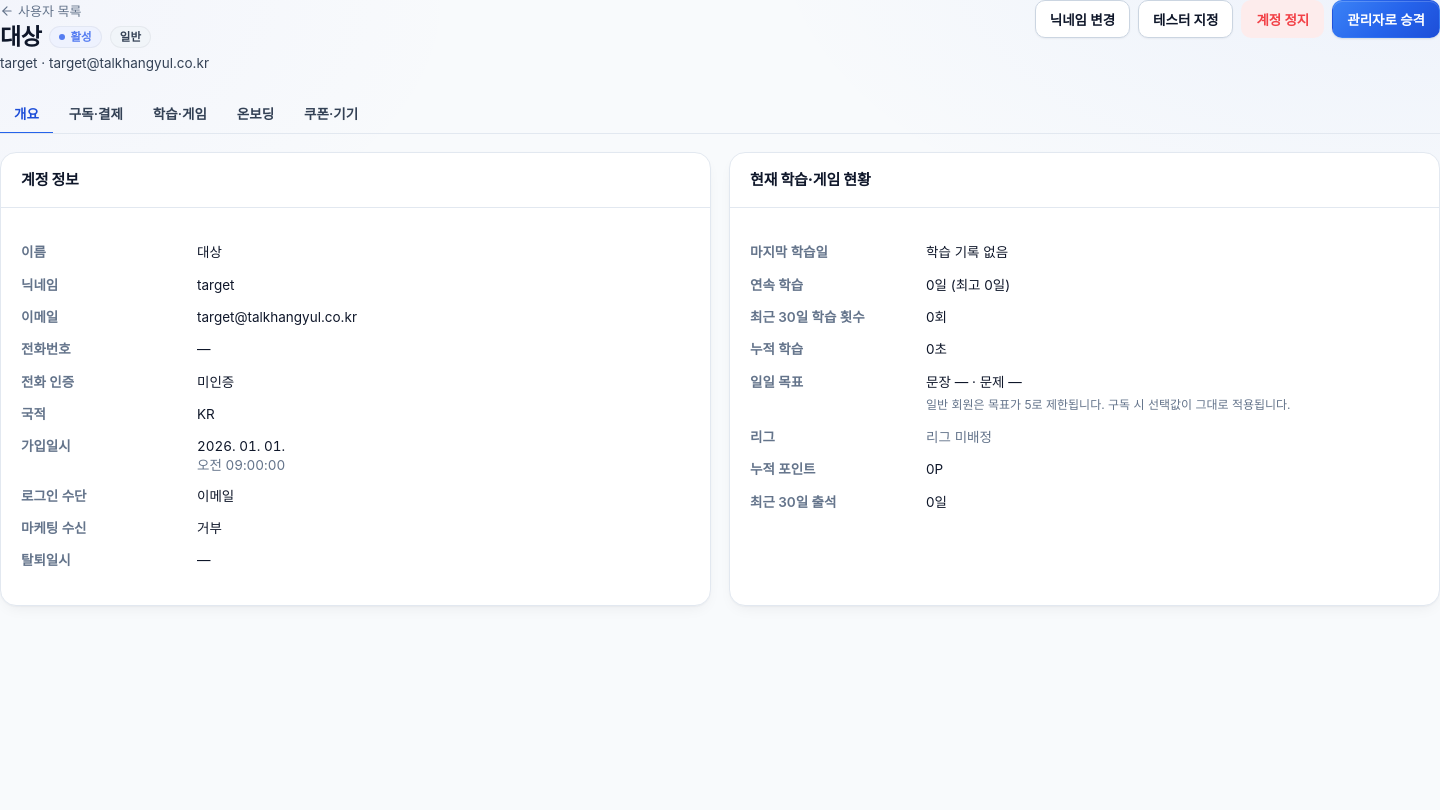
Test: performing the promotion › defaults to the least-privileged tier
Click the button "관리자로 승격": [1386, 19] box [1332,0,1439,38]
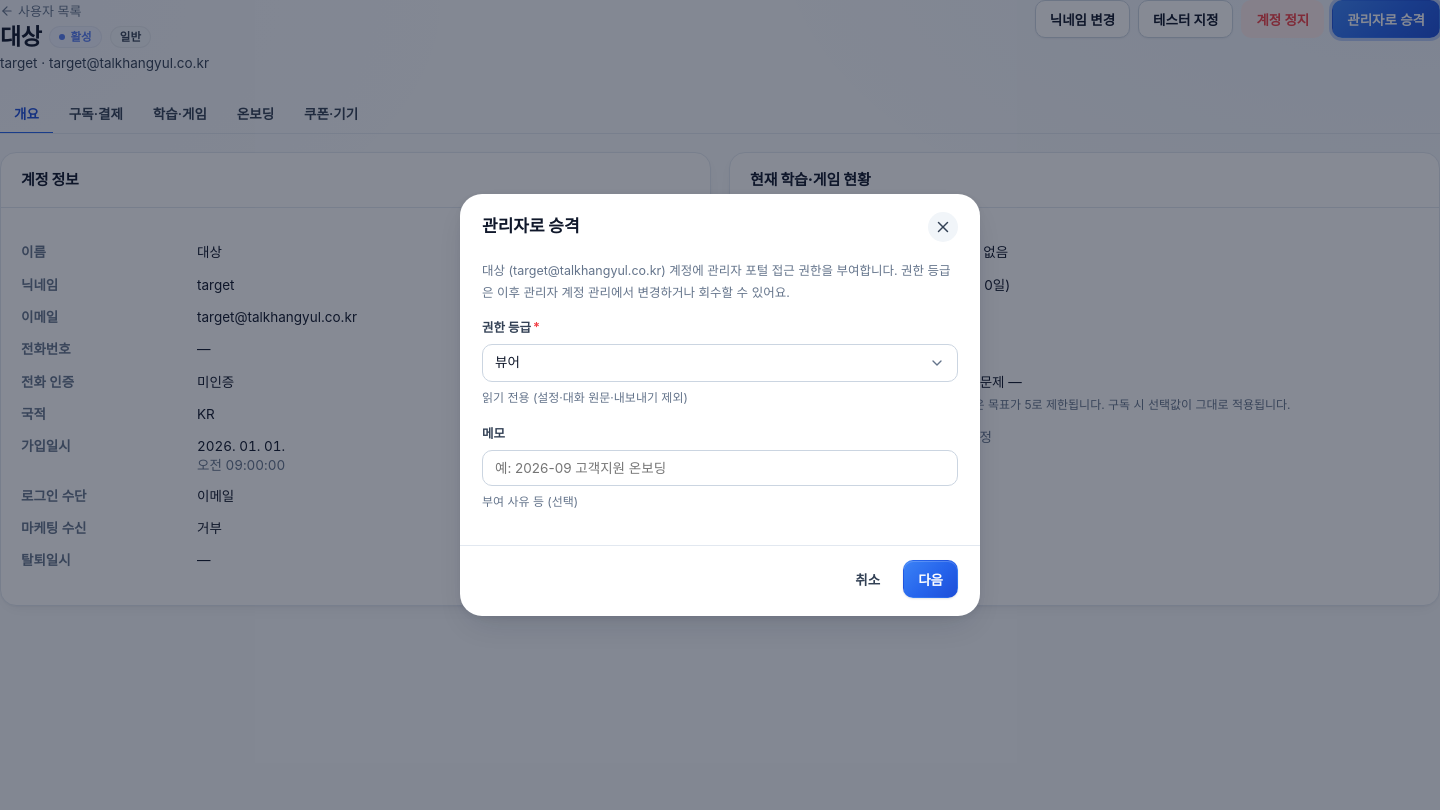
expect the text "뷰어" is shown: met, box [495,354,520,370]
